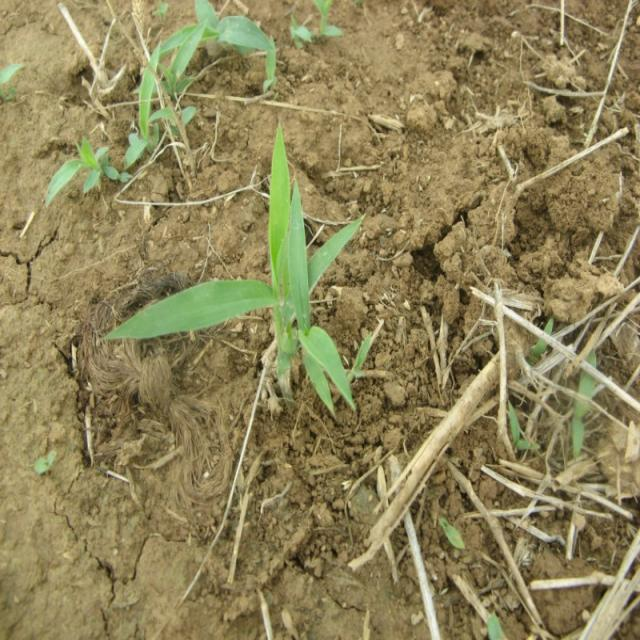bg: (101, 116, 360, 420)
